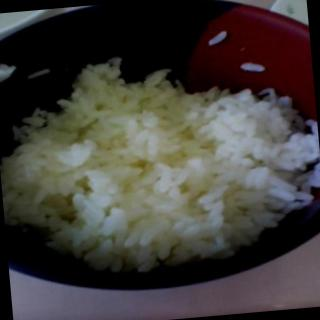Nasi: (1, 38, 320, 284)
